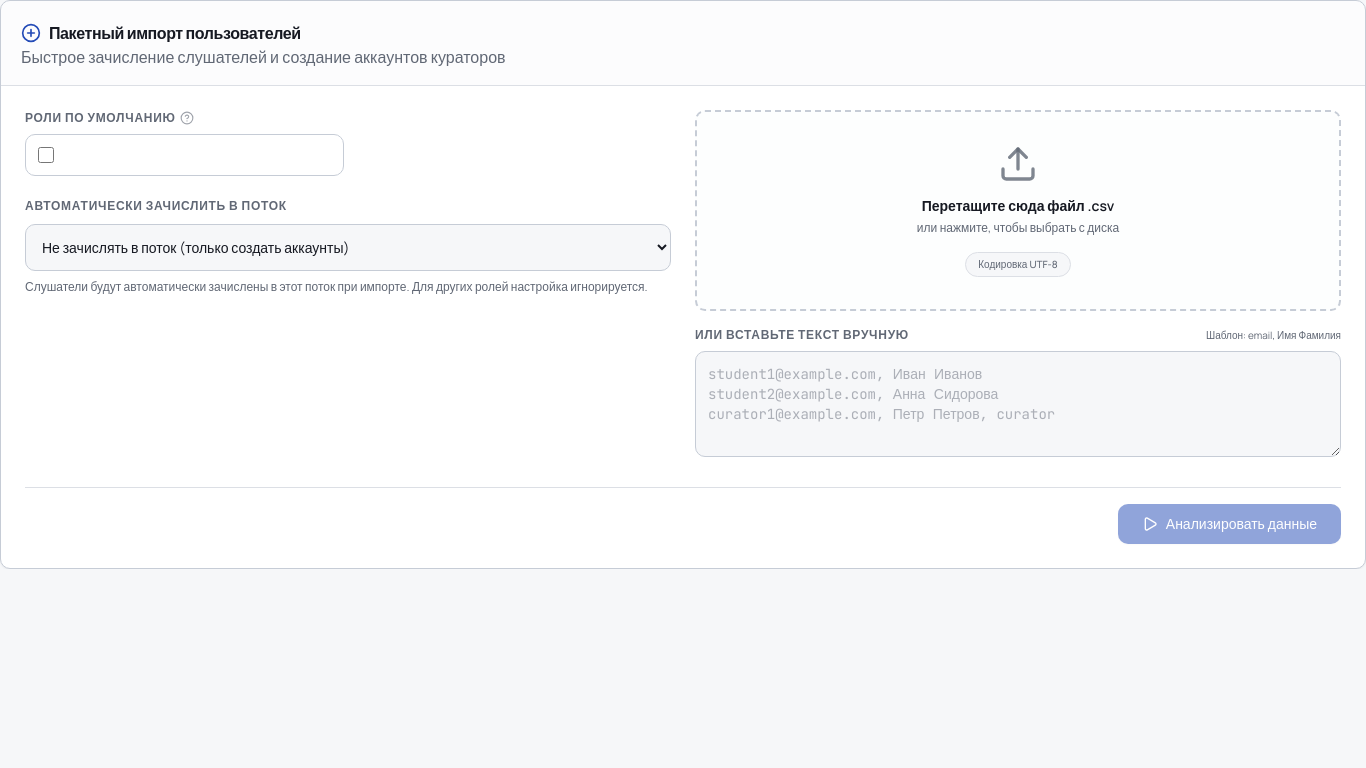
UserBatchImporter › shows a controlled import error without logging raw action details
Step 1. Replace the text in the text box labelled "Или вставьте текст вручную" with "student@example.test, Иван Иванов" → (1018, 404), box [695,351,1341,457]
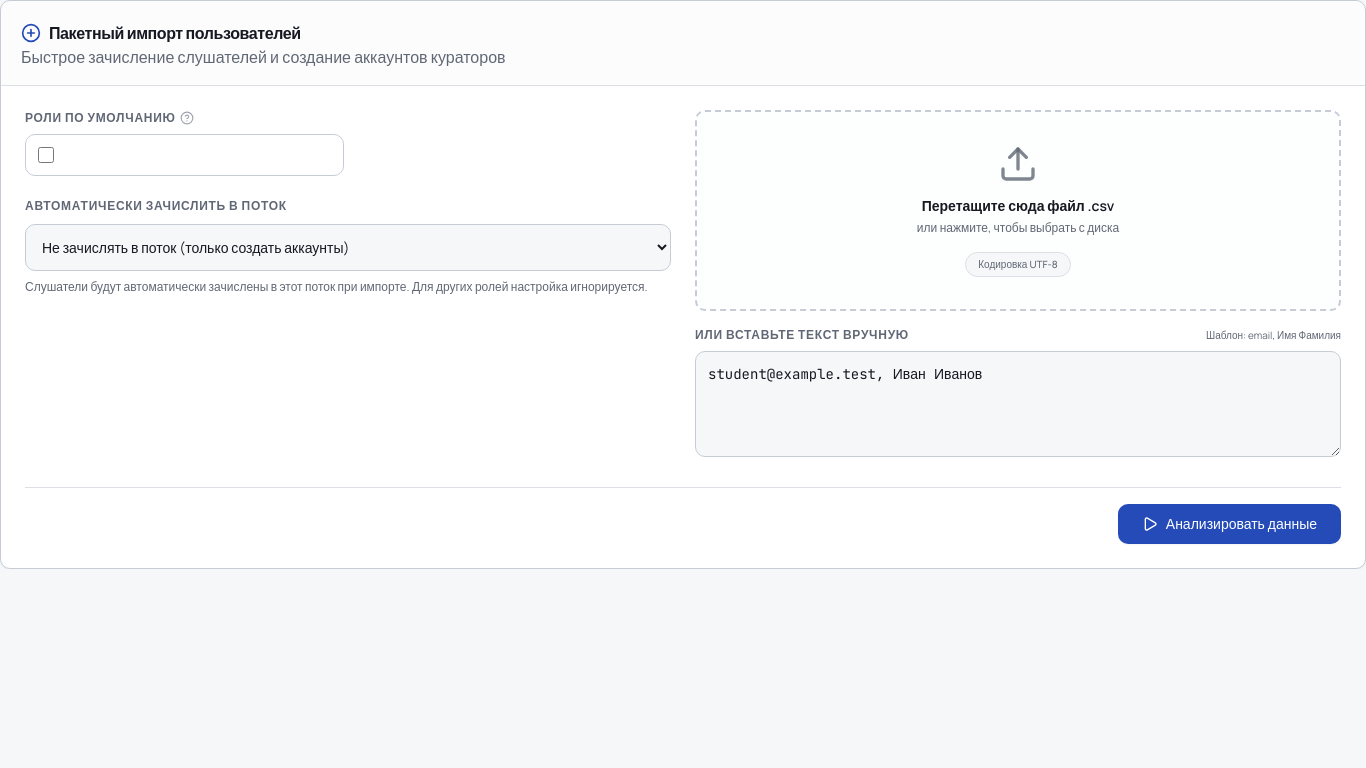
Step 2. Click the button "Анализировать данные" → (1229, 524), box [1118,504,1341,544]
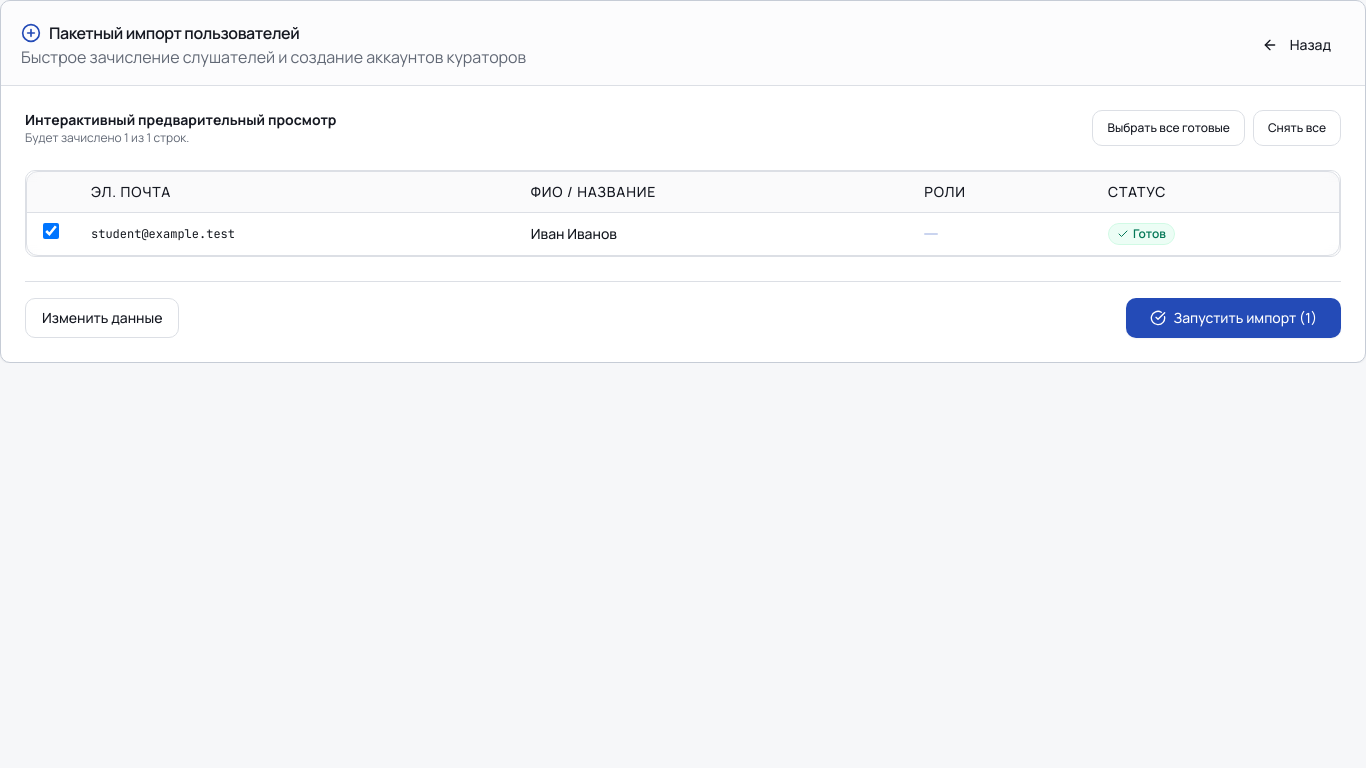
Step 3. Click the button "Запустить импорт (1)" → (1233, 318), box [1126,298,1341,338]
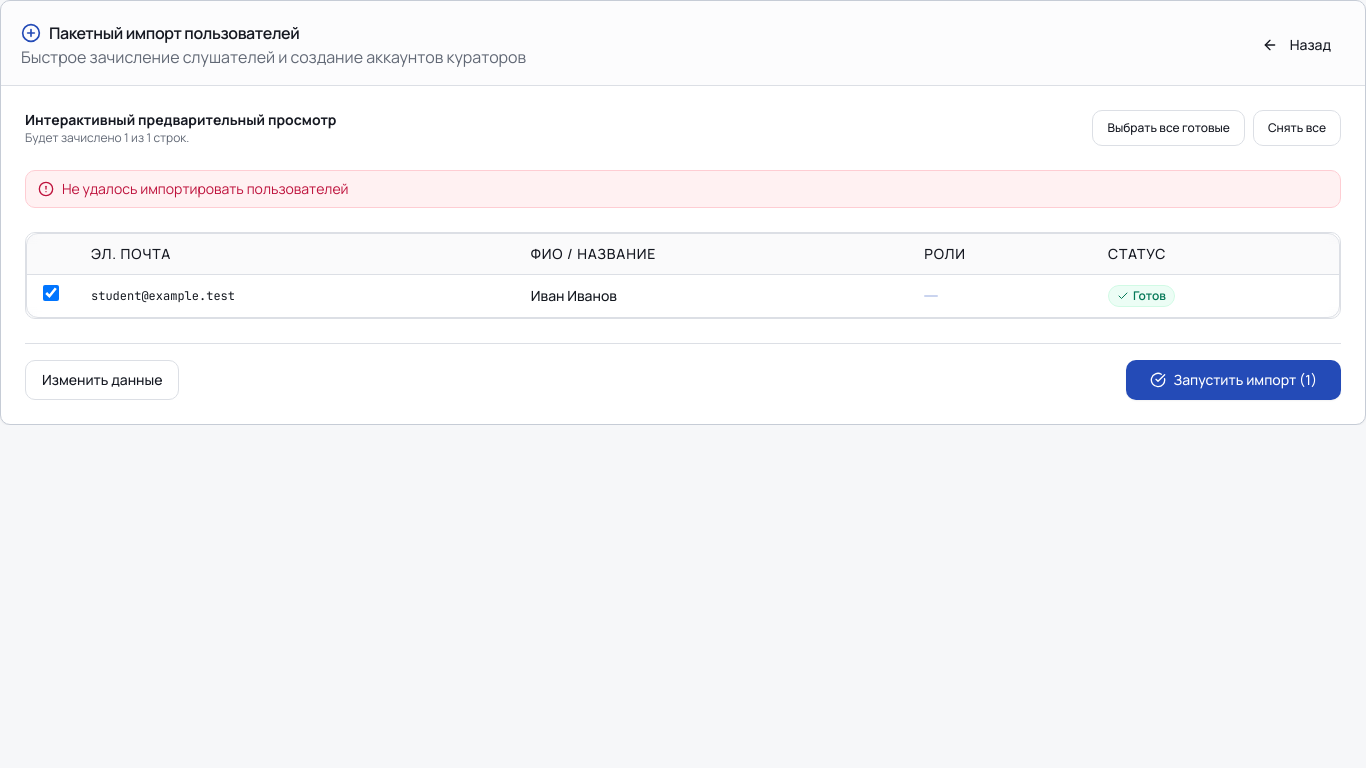
Expected: the message reads "Не удалось импортировать пользователей", [62,179,349,198]
